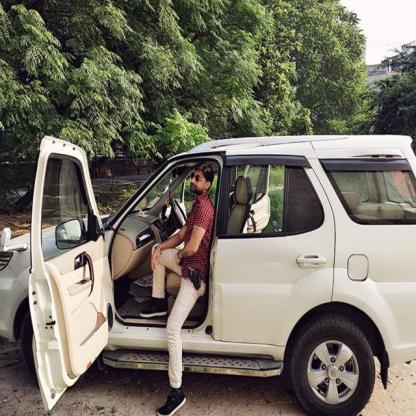handgun: (182, 262, 204, 293)
